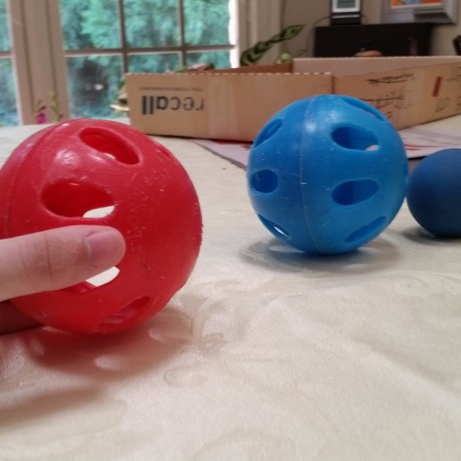ball: (0, 116, 208, 340), (242, 90, 412, 260)
